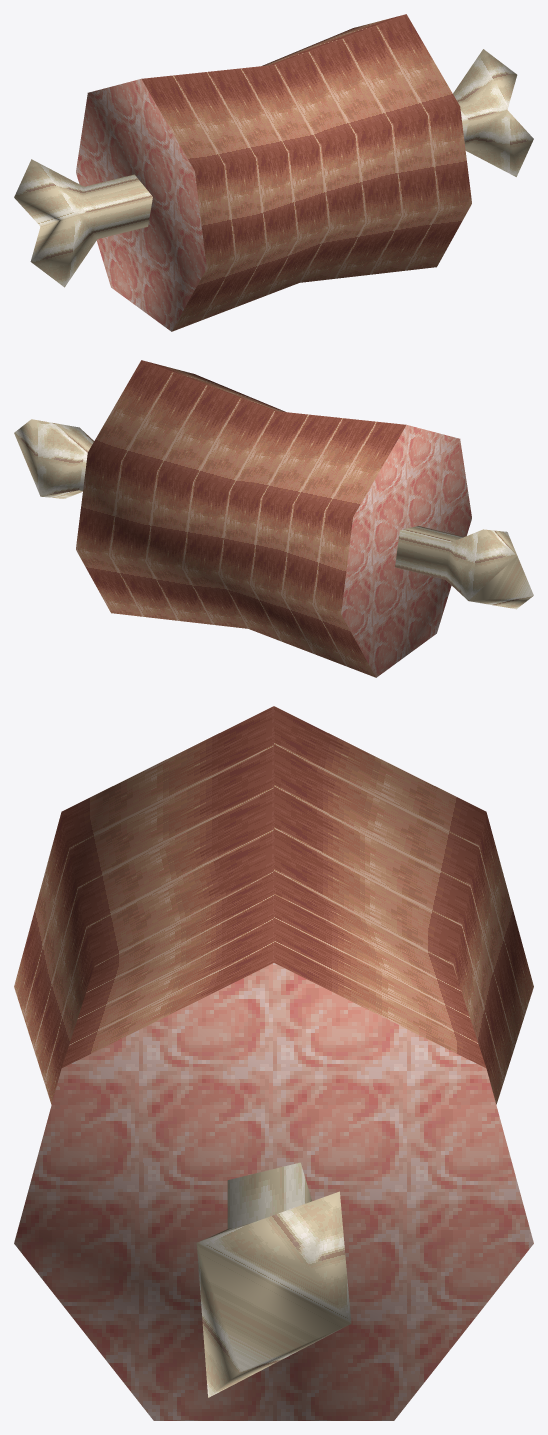
File: 3345IMIG12_06.gltf
The picture shows the model from 3 angles, top to bottom: view 1: azimuth 30°, elevation 25°; view 2: azimuth 150°, elevation 25°; view 3: azimuth 270°, elevation 25°; orthographic projection. The views are drawn at different scales.
Parts seen in each view (by area): view 1: 3345IMIG12_06; view 2: 3345IMIG12_06; view 3: 3345IMIG12_06.
Boxes of the visible parts, <box> form: 3345IMIG12_06: <box>14,14,533,331</box>; 3345IMIG12_06: <box>14,360,533,677</box>; 3345IMIG12_06: <box>14,706,533,1420</box>.
Size of the model in its own units: 0.9062 by 0.3972 by 0.4087.
Materials: 3 (3 with a texture image).
